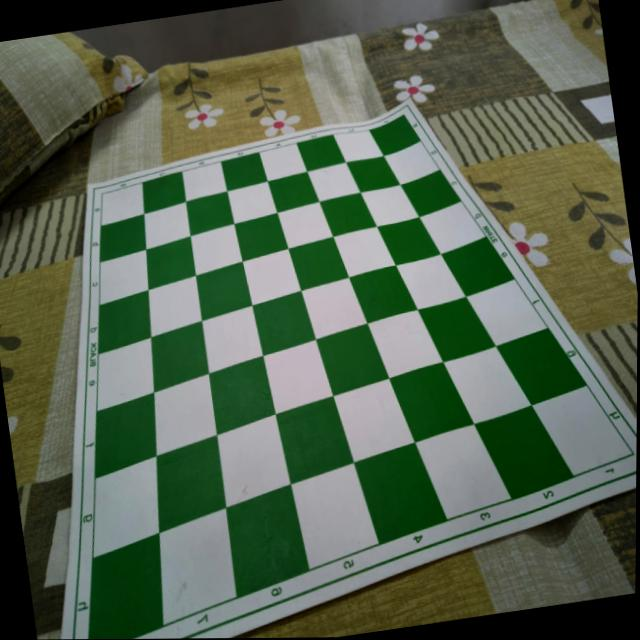square: (226, 484, 310, 598), (474, 405, 574, 500), (354, 442, 447, 544), (415, 424, 513, 520), (291, 463, 378, 570), (159, 508, 237, 626), (533, 385, 634, 476), (89, 534, 163, 639), (496, 328, 588, 406), (443, 346, 532, 425), (333, 378, 415, 463), (275, 396, 353, 485), (217, 414, 290, 508), (156, 435, 226, 533), (93, 457, 159, 559), (389, 363, 473, 442), (466, 279, 548, 347), (209, 355, 276, 436), (263, 339, 333, 416), (316, 324, 389, 396), (95, 393, 156, 479), (368, 310, 443, 378), (155, 374, 217, 456), (418, 297, 496, 362), (441, 236, 515, 297), (97, 336, 154, 412), (151, 321, 209, 393), (202, 306, 263, 374), (253, 291, 316, 356), (302, 277, 367, 340), (349, 265, 418, 323), (395, 254, 466, 310), (419, 201, 487, 254), (242, 248, 301, 306), (196, 262, 253, 321), (99, 290, 151, 354), (288, 237, 349, 291), (149, 276, 202, 338), (333, 227, 396, 278), (377, 217, 442, 265), (401, 170, 461, 217), (191, 223, 243, 276), (100, 250, 148, 306), (146, 237, 196, 290), (234, 213, 288, 262), (277, 202, 333, 249), (320, 192, 377, 237), (384, 140, 440, 185), (360, 185, 420, 227), (144, 202, 191, 250), (100, 214, 146, 262), (186, 191, 235, 236), (227, 181, 278, 224), (267, 172, 320, 213), (307, 162, 361, 202), (369, 115, 421, 156), (346, 156, 400, 193), (101, 182, 145, 226), (142, 171, 186, 214), (182, 162, 228, 202), (297, 135, 346, 172), (221, 153, 268, 191), (259, 144, 307, 181), (333, 130, 384, 163)
